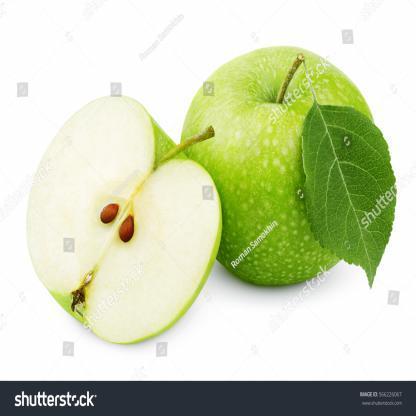Apple leaf: (298, 95, 404, 297)
